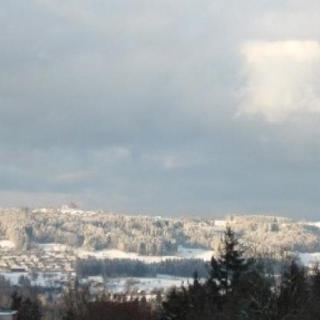Nimbostratus: (0, 0, 320, 156)
